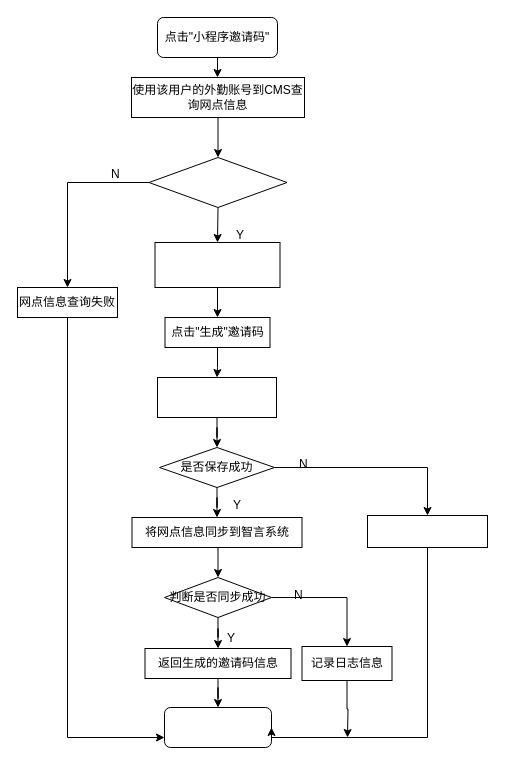
This 505x765 diagram has some shape labels left out. The shapes that lost their labels are listed below. From the top down, each one's centre as x and y in pixels, then its label:
point (217, 182): 是否查询成功
point (217, 265): 将网点名称、网点编号信息返回前端
point (216, 397): 将网点信息和生成的邀请码保存
point (427, 531): 网点信息保存失败
point (218, 727): 结束
